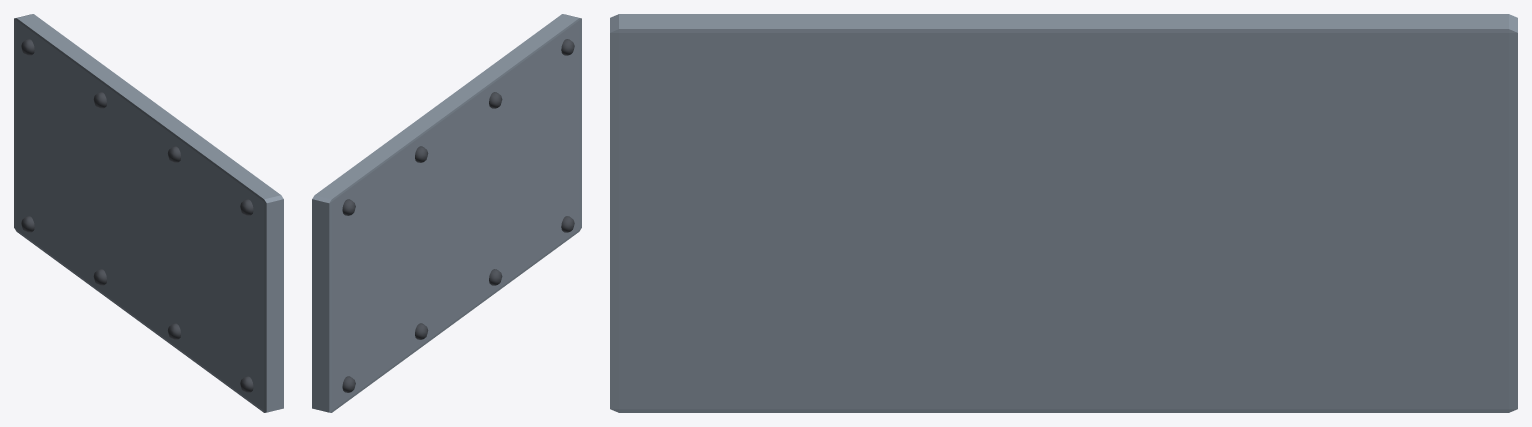
Rendered from HullPlate.glb.
The picture shows the model from 3 angles, left to right: view 1: azimuth 30°, elevation 25°; view 2: azimuth 150°, elevation 25°; view 3: azimuth 270°, elevation 25°; orthographic projection. The views are drawn at different scales.
Parts seen in each view (by area): view 1: HullPlate; view 2: HullPlate; view 3: HullPlate.
Part boxes in pixels (x1,y1,x2,y2): HullPlate: (14,14,283,412); HullPlate: (312,14,581,412); HullPlate: (610,14,1517,412).
Size of the model in its own units: 0.09 by 0.7 by 1.5.
